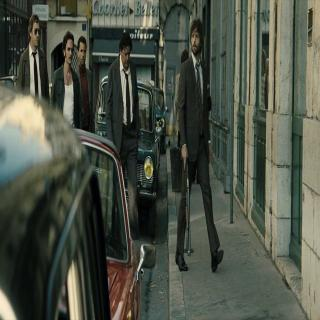gun: (181, 147, 193, 258)
